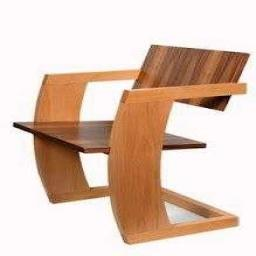Chair: (15, 48, 248, 244)
